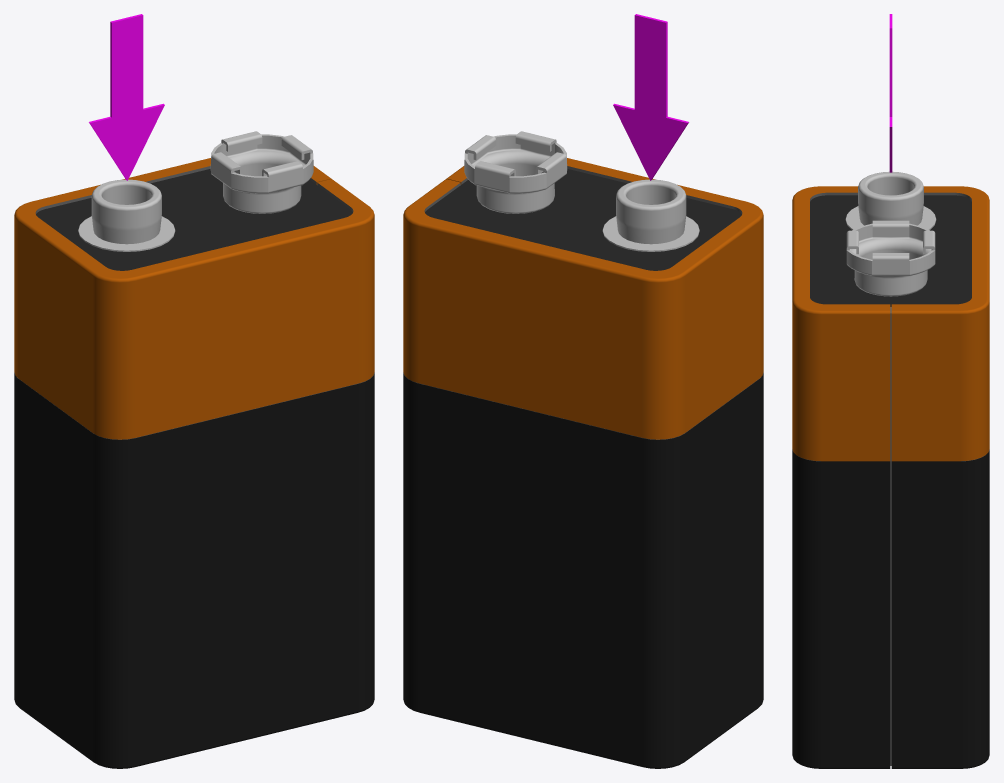
File: 9V-Battery-Cylinder.glb
3 renders of one model, left to right at view 1: azimuth 30°, elevation 25°; view 2: azimuth 150°, elevation 25°; view 3: azimuth 270°, elevation 25°, orthographic. The views are drawn at different scales.
Parts seen in each view (by area): view 1: Part 5, Part 3, Part 2, Part 4, Part 6, Part; view 2: Part 5, Part 3, Part 2, Part 4, Part 6, Part; view 3: Part 5, Part 3, Part 4, Part 2, Part, Part 6.
Boxes of the visible parts, x1,y1,x2,y2 form: Part 5: (14, 372, 374, 768); Part 3: (14, 158, 374, 439); Part 2: (78, 131, 313, 251); Part 4: (36, 169, 352, 270); Part 6: (89, 14, 164, 180); Part: (17, 166, 373, 439); Part 5: (403, 372, 763, 768); Part 3: (403, 158, 763, 439); Part 2: (464, 131, 699, 251); Part 4: (425, 169, 741, 270); Part 6: (613, 14, 688, 180); Part: (404, 166, 760, 439); Part 5: (792, 449, 989, 768); Part 3: (792, 186, 989, 461); Part 4: (810, 195, 971, 306); Part 2: (845, 171, 936, 296); Part: (796, 192, 985, 765); Part 6: (889, 14, 892, 172).
Bounding box in the file's own units: 0.026 × 0.0628 × 0.0171.
